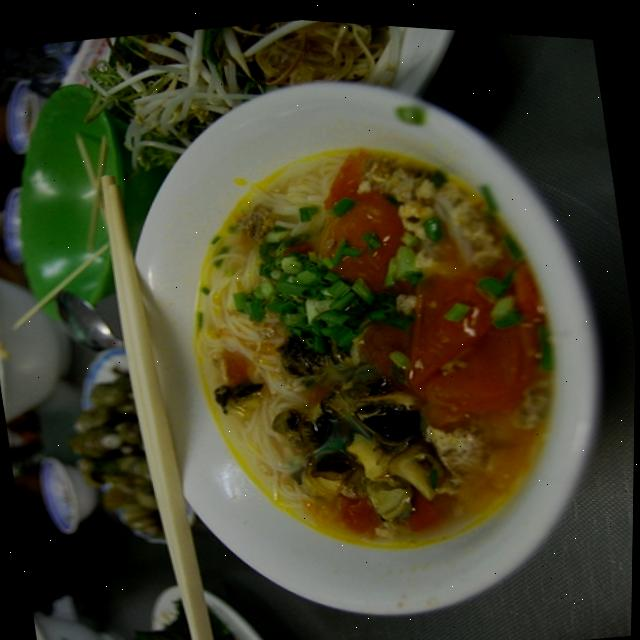面条主食: (81, 23, 640, 640)
